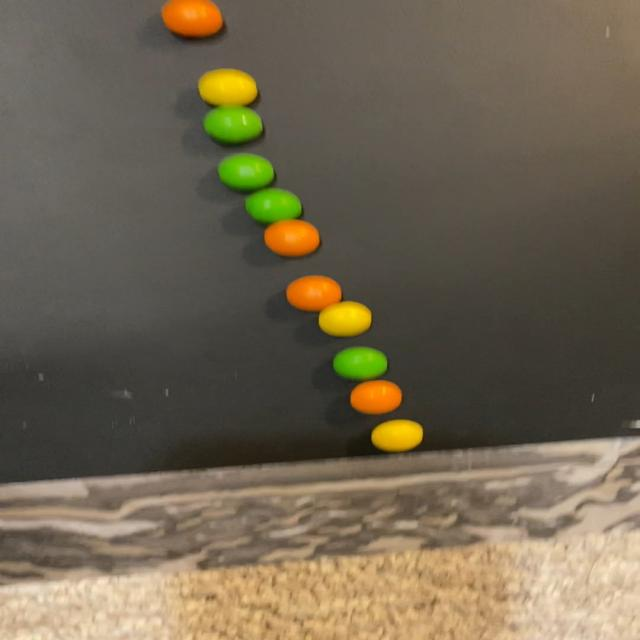smartie: (202, 105, 262, 143), (160, 0, 221, 37), (197, 68, 257, 105), (263, 219, 319, 257), (217, 153, 274, 190), (245, 187, 301, 224), (286, 275, 341, 312), (318, 301, 372, 337), (332, 346, 387, 381), (350, 380, 402, 415), (371, 420, 423, 453)
